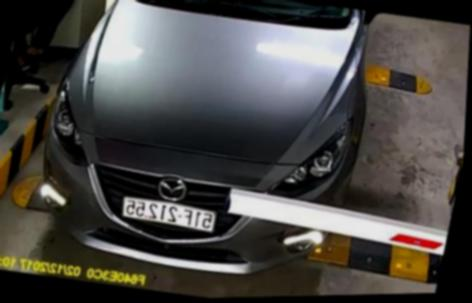License_Plate: (111, 194, 227, 241)
